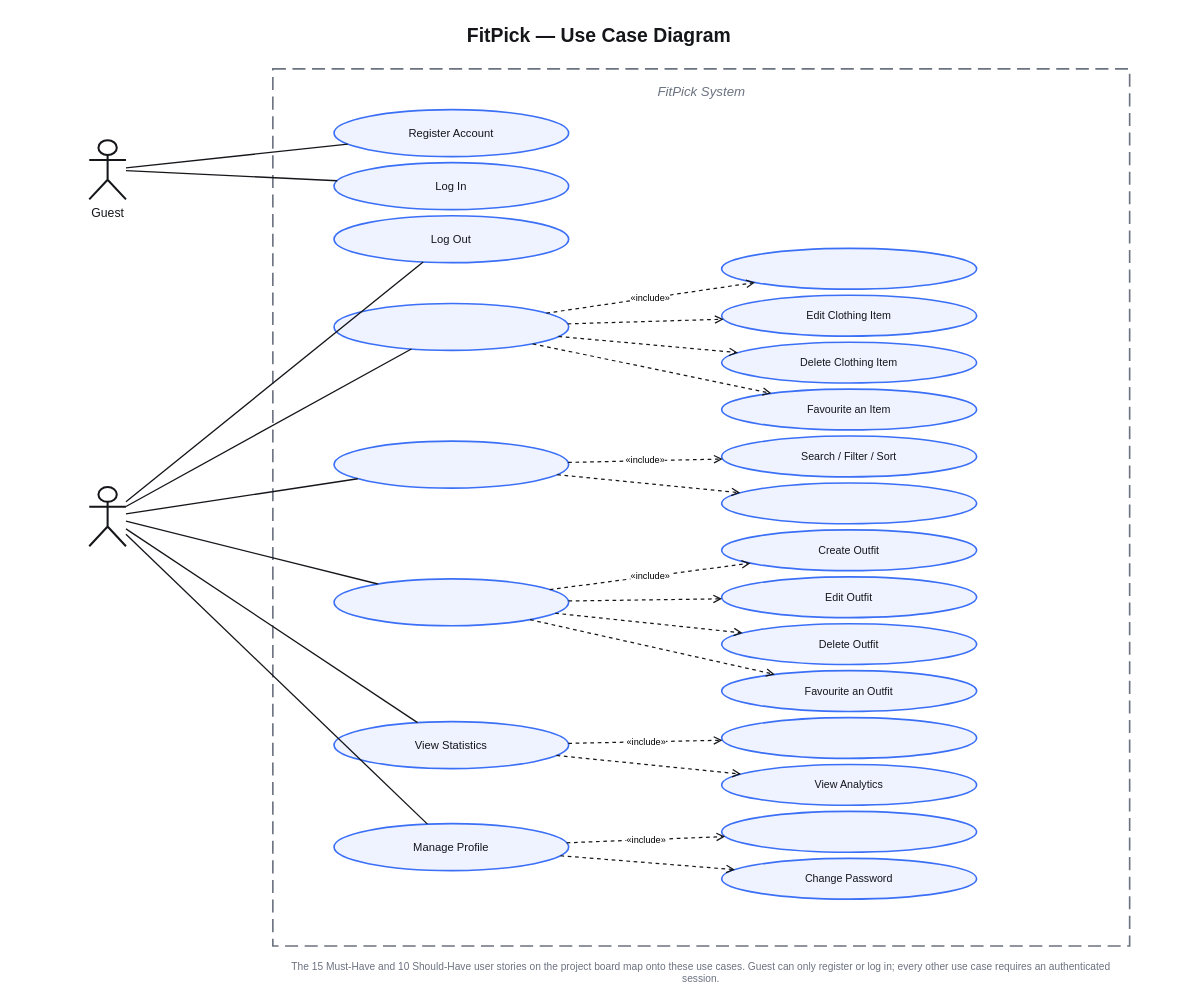
Image size: 1197x1003. Some labels were removed from this diagram. The shapes that lost their labels are listed below. From the top down, each one's centre as x and y in pixels, then its label:
(848,268): Add Clothing Item
(451,326): Manage Clothing
(451,464): Browse Wardrobe
(107,516): Registered User
(848,503): View Clothing Details
(451,602): Manage Outfits
(848,737): View Dashboard
(848,831): Update Profile
